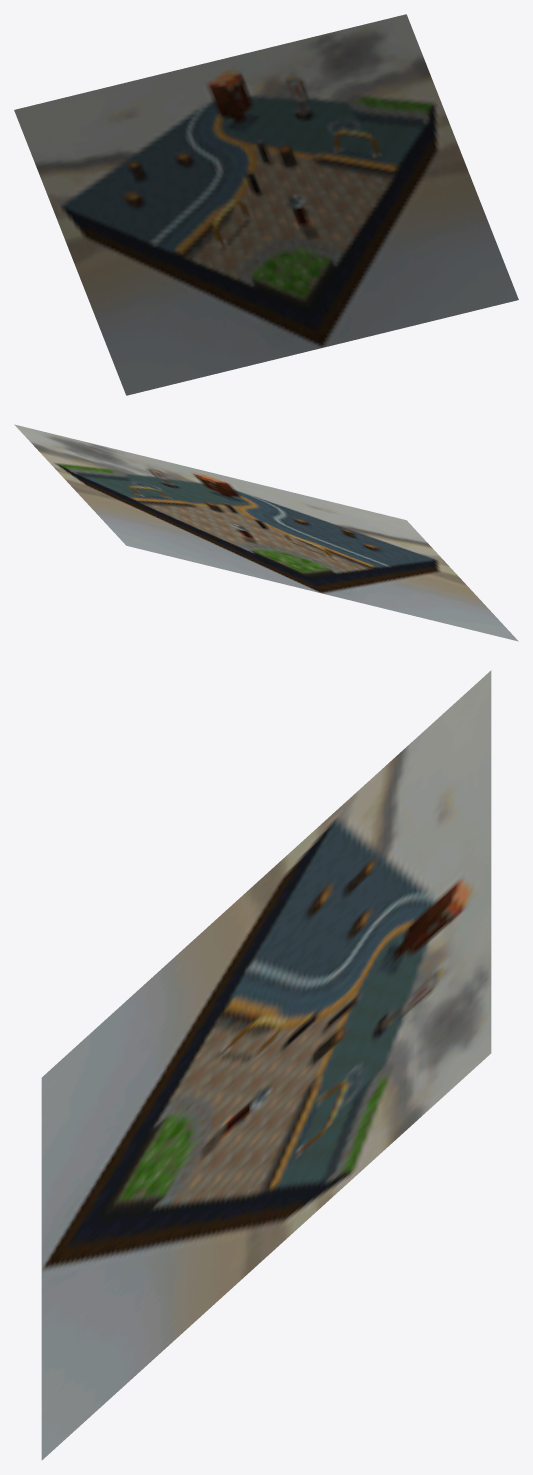
3 renders of one model, top to bottom at view 1: azimuth 30°, elevation 25°; view 2: azimuth 150°, elevation 25°; view 3: azimuth 270°, elevation 25°, orthographic. The views are drawn at different scales.
Visible parts, largest first — view 1: Joint_0_Object_0; view 2: Joint_0_Object_0; view 3: Joint_0_Object_0.
Part boxes in pixels (bbox=[...]): Joint_0_Object_0: bbox=[14, 14, 518, 395]; Joint_0_Object_0: bbox=[14, 424, 518, 641]; Joint_0_Object_0: bbox=[41, 670, 491, 1460].
Bounding box in the file's own units: 241 × 120 × 120.
Materials: 1 (1 with a texture image).
